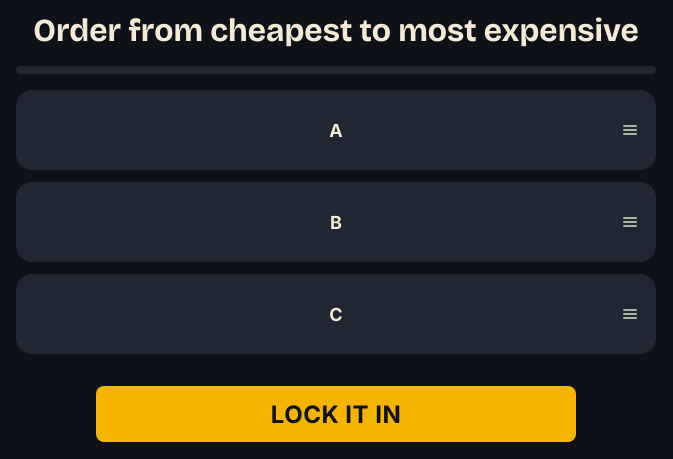
Test: QuestionOrder › post-submit reveal › items render with reveal variants and price factor subtext
Click the button "LOCK IT IN". click: [336, 414]
box: [96,386,576,442]
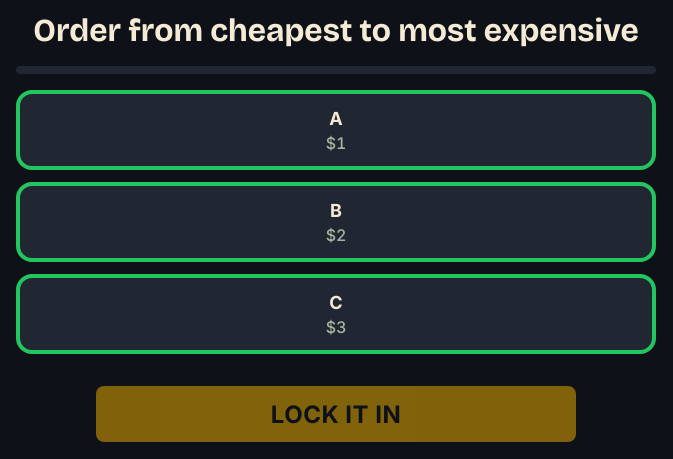
Result: the text "$1" is shown at [326,133,346,153]
Result: the text "$2" is shown at [326,225,346,245]
Result: the text "$3" is shown at [326,317,346,337]
